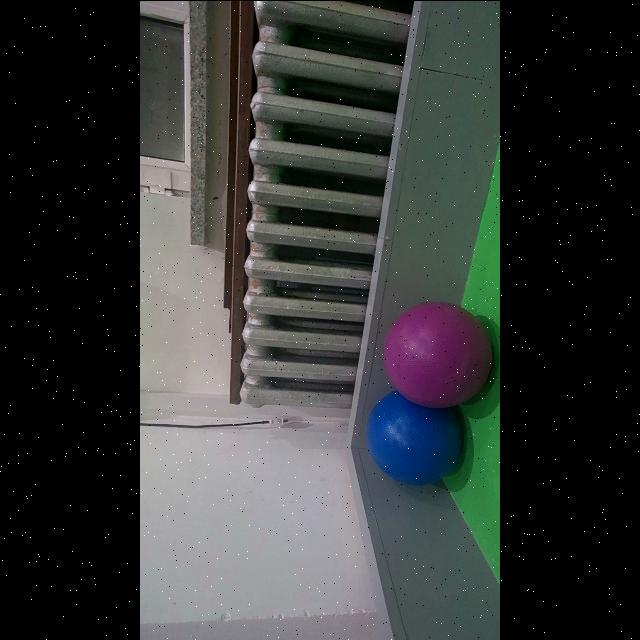B: (366, 388, 462, 484)
P: (383, 300, 492, 408)
